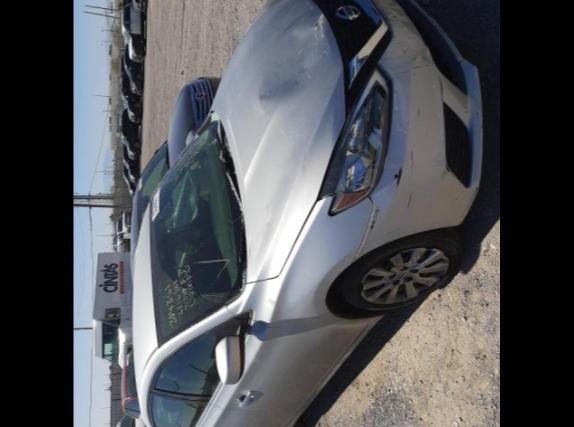Dent: (250, 6, 332, 134), (262, 204, 274, 237)
Scratch: (383, 0, 434, 72), (404, 142, 420, 178), (402, 182, 418, 216), (462, 180, 478, 214), (366, 202, 380, 238), (392, 164, 408, 194), (438, 166, 454, 182), (438, 74, 446, 102), (414, 100, 420, 128)
